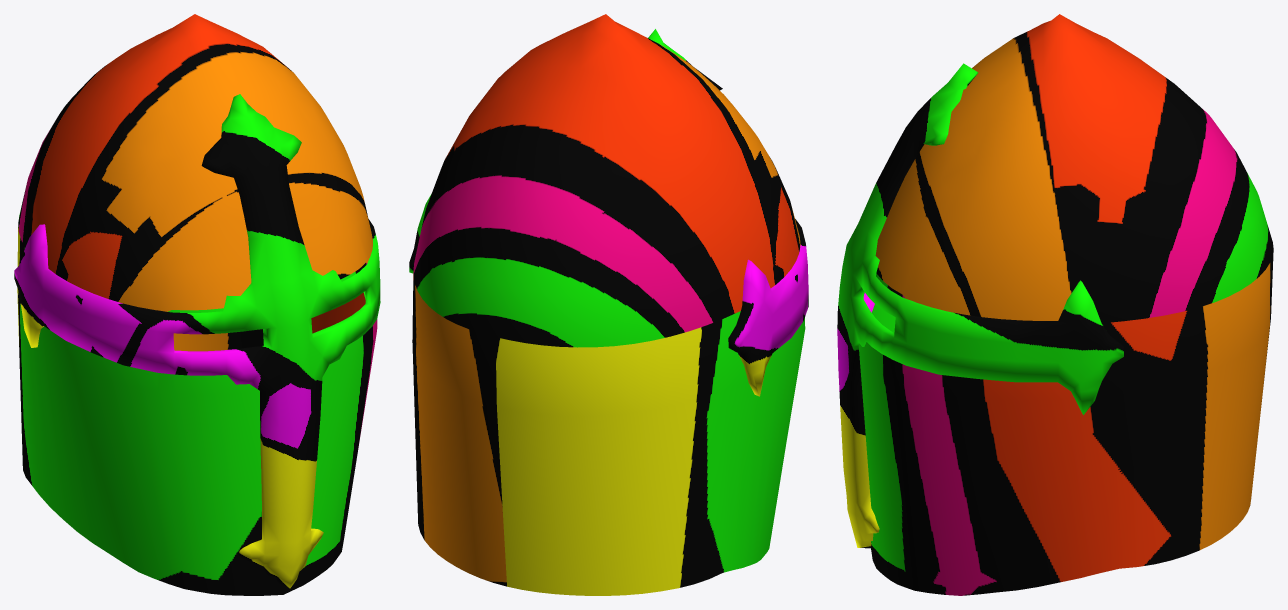
File: HELMS5.obj
3 renders of one model, left to right at view 1: azimuth 30°, elevation 25°; view 2: azimuth 150°, elevation 25°; view 3: azimuth 270°, elevation 25°, orthographic. The views are drawn at different scales.
Parts seen in each view (by area): view 1: Helm_5_coif.005; view 2: Helm_5_coif.005; view 3: Helm_5_coif.005.
Part boxes in pixels (bbox=[...]): Helm_5_coif.005: bbox=[14, 14, 380, 595]; Helm_5_coif.005: bbox=[409, 14, 808, 595]; Helm_5_coif.005: bbox=[837, 14, 1273, 595].
Size of the model in its own units: 12.55 by 19.96 by 14.45.
